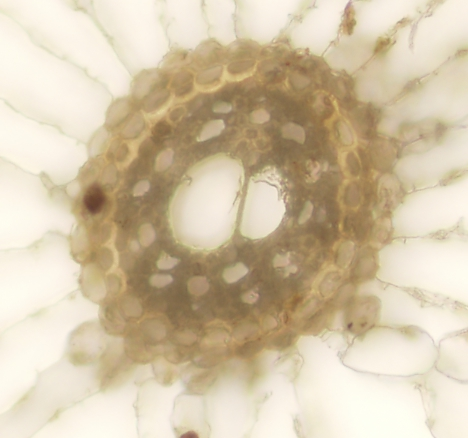lm: (166, 152, 287, 249)
